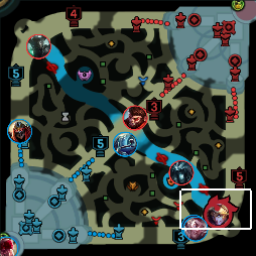ezreal: (205, 202, 229, 228)
fizz: (112, 131, 136, 155), (123, 103, 146, 128)
karthus: (171, 160, 194, 184)
leesin: (1, 234, 17, 256)
mordekaiser: (26, 34, 50, 58)
rakan: (182, 217, 205, 239)
zed: (7, 118, 30, 142)
